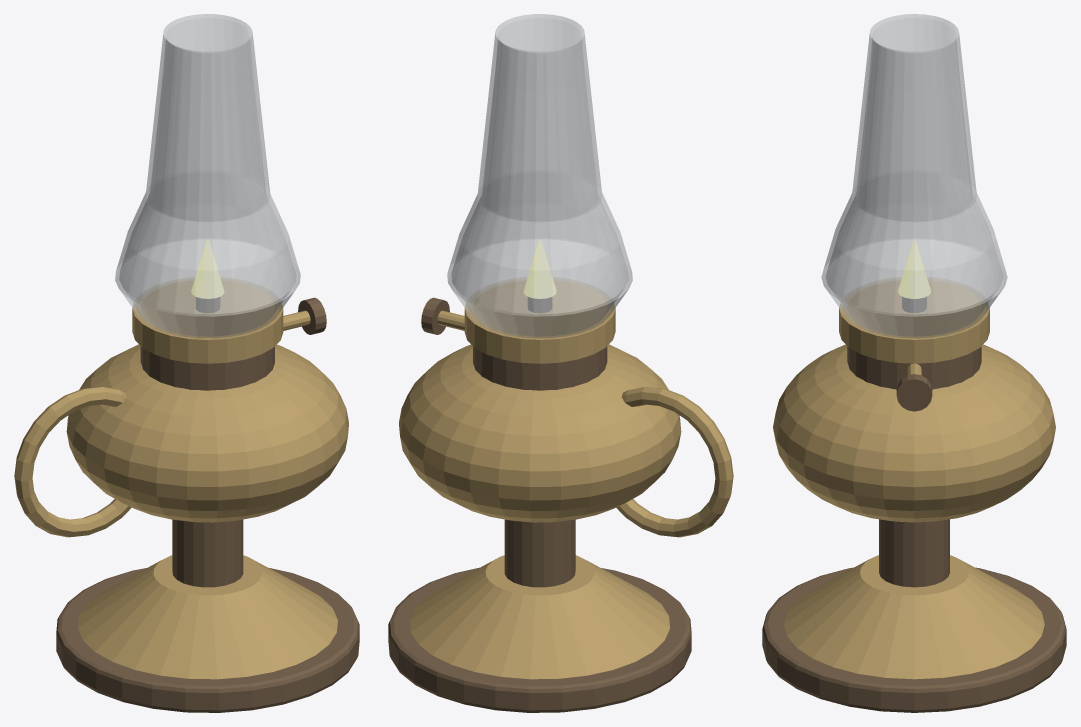
File: oil_lamp.glb
The picture shows the model from 3 angles, left to right: view 1: azimuth 30°, elevation 25°; view 2: azimuth 150°, elevation 25°; view 3: azimuth 270°, elevation 25°; orthographic projection.
Visible parts, largest first — view 1: Cylinder.007, Sphere, Cone, Cylinder, Cylinder.003, Torus, Cylinder.001, Cylinder.002, Cone.001, Cylinder.005; view 2: Cylinder.007, Sphere, Cone, Cylinder, Cylinder.003, Torus, Cylinder.001, Cylinder.002, Cone.001, Cylinder.005; view 3: Cylinder.007, Sphere, Cone, Cylinder, Cylinder.003, Cylinder.001, Cylinder.002, Cone.001, Cylinder.005.
Boxes of the visible parts, box(x1,y1,x2,y2) form: Cylinder.007: box(115, 14, 300, 337); Sphere: box(66, 344, 348, 522); Cone: box(78, 555, 337, 679); Cylinder: box(56, 567, 359, 712); Cylinder.003: box(132, 278, 283, 363); Torus: box(14, 387, 131, 537); Cylinder.001: box(172, 519, 243, 587); Cylinder.002: box(140, 346, 274, 390); Cone.001: box(191, 239, 223, 298); Cylinder.005: box(298, 297, 326, 334); Cylinder.007: box(447, 14, 632, 337); Sphere: box(399, 344, 681, 522); Cone: box(410, 555, 669, 679); Cylinder: box(388, 567, 691, 712); Cylinder.003: box(464, 278, 615, 363); Torus: box(616, 387, 733, 537); Cylinder.001: box(504, 519, 575, 587); Cylinder.002: box(473, 346, 607, 390); Cone.001: box(524, 239, 556, 298); Cylinder.005: box(421, 297, 449, 334); Cylinder.007: box(821, 14, 1007, 338); Sphere: box(773, 344, 1055, 522); Cone: box(784, 555, 1044, 679); Cylinder: box(762, 567, 1066, 712); Cylinder.003: box(839, 278, 989, 363); Cylinder.001: box(879, 519, 949, 587); Cylinder.002: box(847, 346, 981, 389); Cone.001: box(898, 239, 930, 298); Cylinder.005: box(896, 374, 932, 411).
Size of the model in its own units: 0.357 by 0.65 by 0.29.
